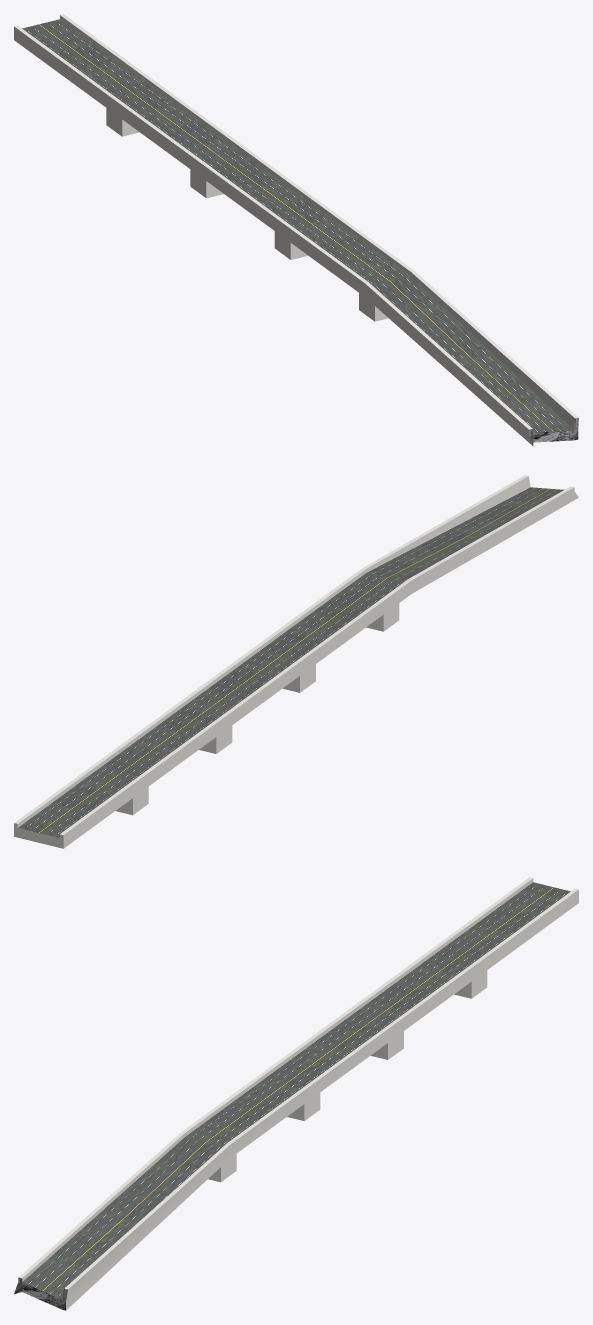
File: broken_highway.fbx
3 views of the same model, one above another, from view 1: azimuth 30°, elevation 25°; view 2: azimuth 150°, elevation 25°; view 3: azimuth 330°, elevation 25° (orthographic).
Parts seen in each view (by area): view 1: brokenhighway; view 2: brokenhighway; view 3: brokenhighway.
Part boxes in pixels (box(x1,y1,x2,y2)): brokenhighway: box(14, 14, 578, 446); brokenhighway: box(14, 475, 578, 848); brokenhighway: box(14, 877, 578, 1310).
Bounding box in the file's own units: 68.44 × 62.24 × 1233.
Materials: 3 (3 with a texture image).
